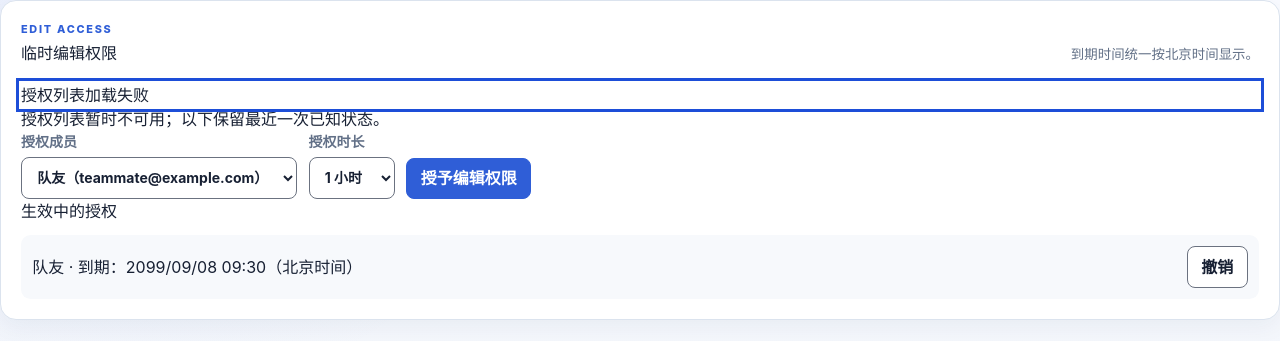
shows a revoke failure above loadError without removing the known grant
Click the button with aria-label "撤销队友的编辑权限". click: point(1217, 267)
box: x1=1187 y1=246 x2=1248 y2=288
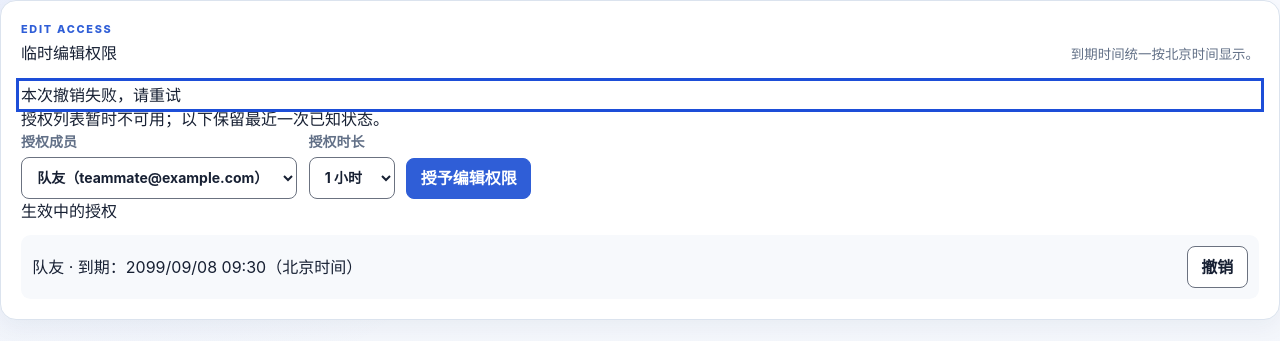
Expected: the number of messages is 1, x1=21 y1=85 x2=181 y2=105
Result: the message reads "本次撤销失败，请重试" at x1=21 y1=85 x2=181 y2=105
